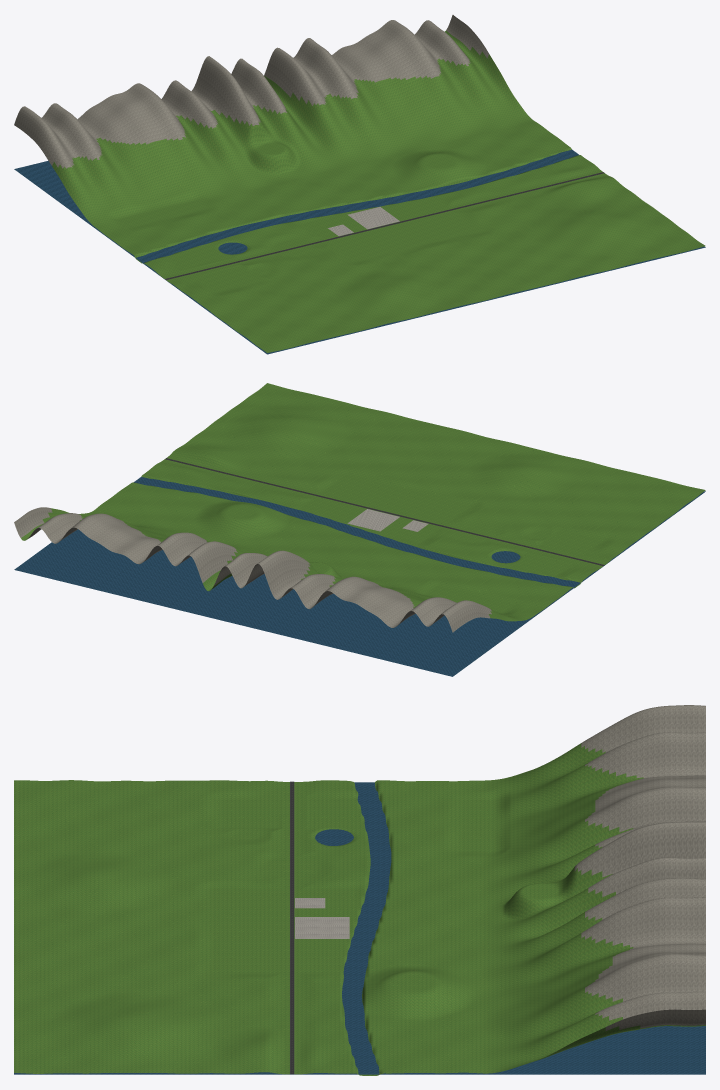
The model's file is terrain.obj.
The picture shows the model from 3 angles, top to bottom: view 1: azimuth 30°, elevation 25°; view 2: azimuth 150°, elevation 25°; view 3: azimuth 270°, elevation 25°; orthographic projection. The views are drawn at different scales.
Visible parts, largest first — view 1: Ground_Grass, Ground_Rock, Water_Water, Road_Road, PlazaSatuMare_Pavement; view 2: Ground_Grass, Water_Water, Ground_Rock, Road_Road, PlazaSatuMare_Pavement; view 3: Ground_Grass, Ground_Rock, Water_Water, Road_Road, PlazaSatuMare_Pavement.
Boxes of the visible parts, bbox=[...] form: Ground_Grass: bbox=[52, 30, 705, 352]; Ground_Rock: bbox=[14, 15, 489, 168]; Water_Water: bbox=[14, 149, 705, 354]; Road_Road: bbox=[165, 172, 604, 279]; PlazaSatuMare_Pavement: bbox=[347, 207, 399, 229]; Ground_Grass: bbox=[21, 383, 705, 621]; Water_Water: bbox=[14, 477, 705, 676]; Ground_Rock: bbox=[14, 507, 491, 632]; Road_Road: bbox=[165, 458, 604, 566]; PlazaSatuMare_Pavement: bbox=[347, 509, 399, 531]; Ground_Grass: bbox=[14, 743, 705, 1075]; Ground_Rock: bbox=[574, 705, 705, 1030]; Water_Water: bbox=[14, 782, 705, 1074]; Road_Road: bbox=[290, 781, 294, 1074]; PlazaSatuMare_Pavement: bbox=[295, 917, 349, 938].
Size of the model in its own units: 2000 by 289 by 2000.
5 materials, 5 textured.
